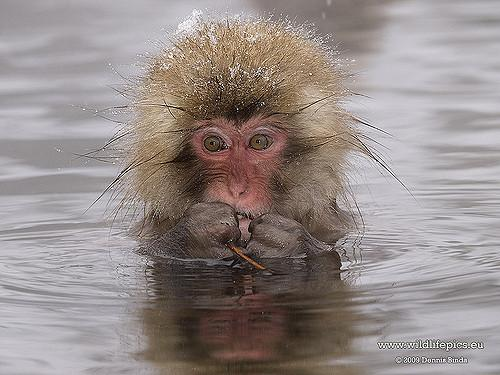monkey: (133, 38, 354, 262)
